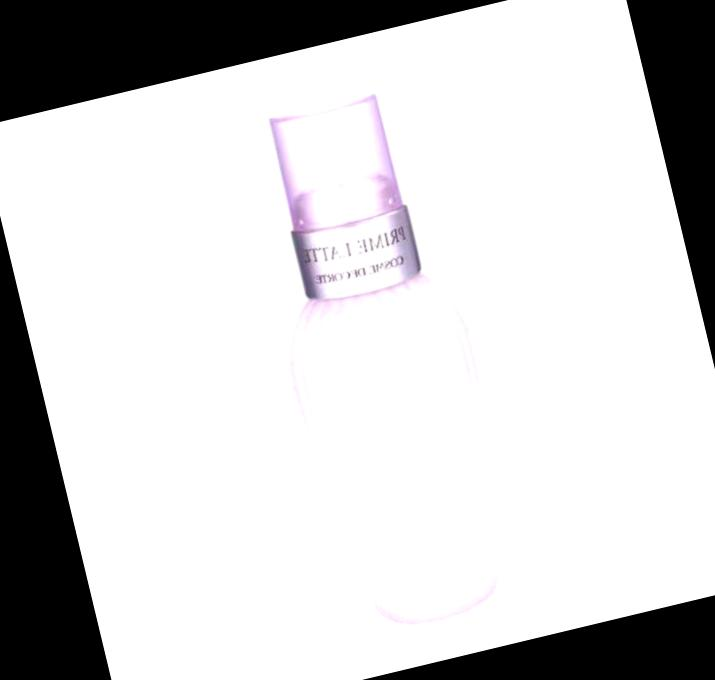cosmetic: (235, 80, 521, 644)
